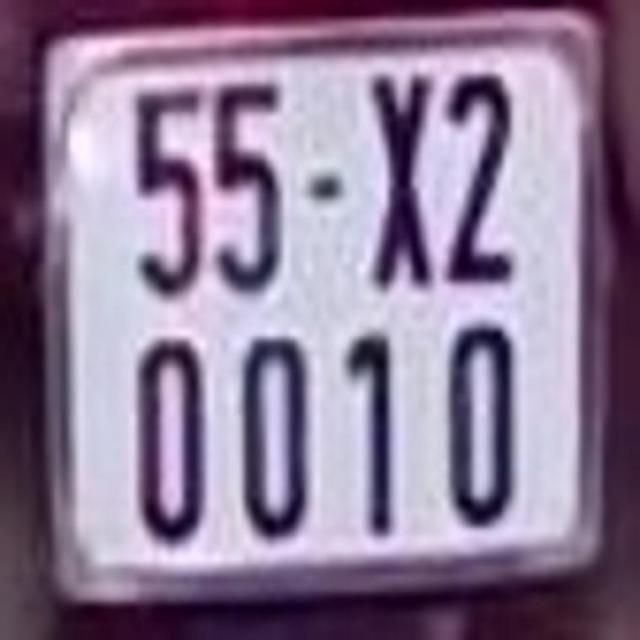0: (136, 332, 206, 538), (241, 330, 311, 530), (448, 318, 514, 522)
1: (344, 316, 402, 532)
2: (442, 66, 515, 285)
5: (212, 76, 288, 298), (135, 84, 203, 300)
X: (366, 68, 436, 284)
